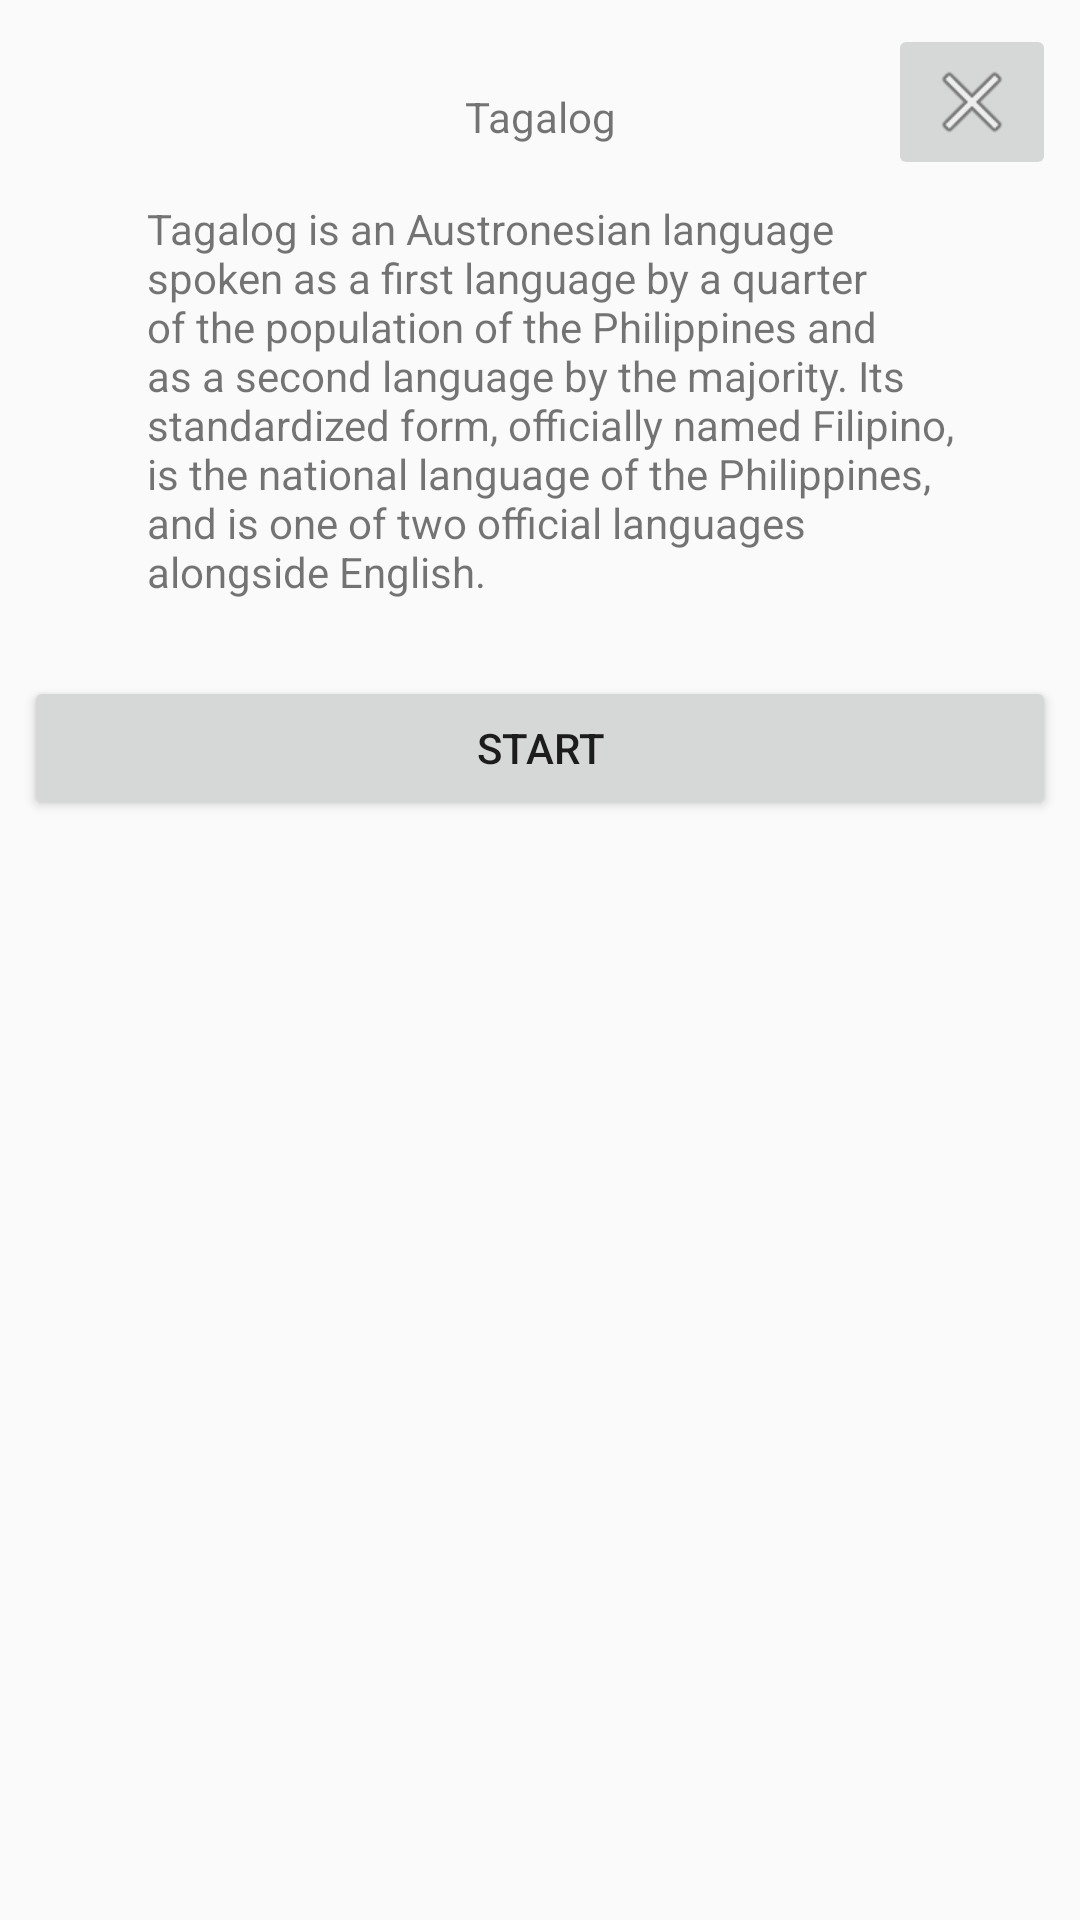

Where to tap for icons on this 1080px x 1920px app screen, as (x,y):
close clear cancel: (972,102)
